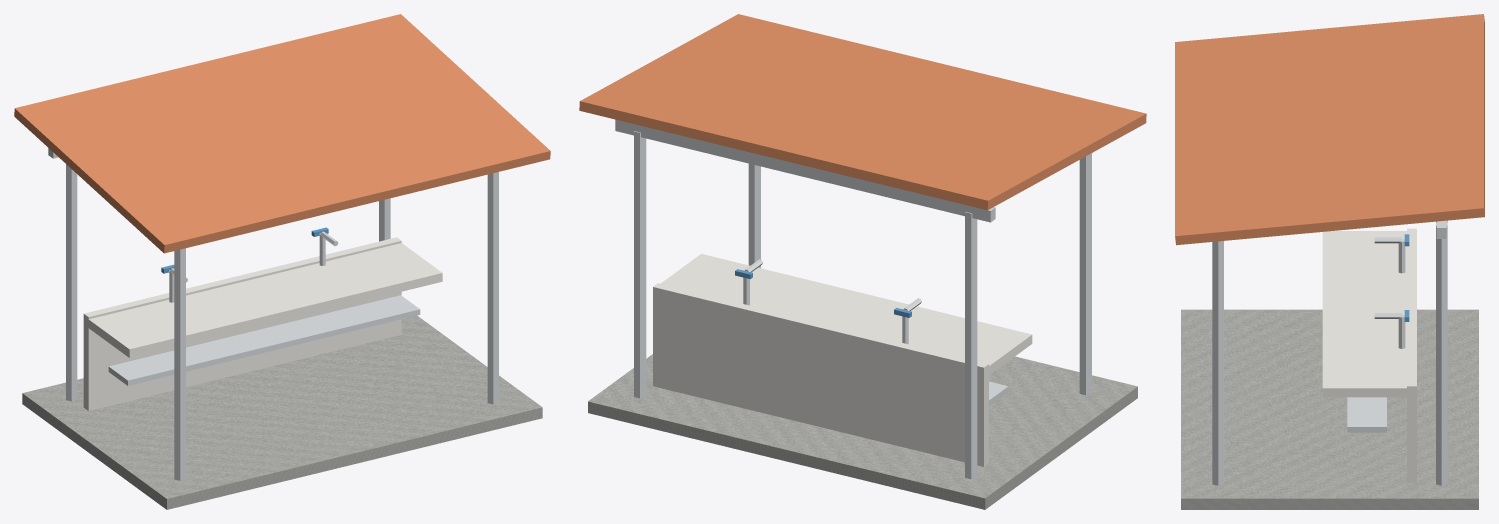
The model's file is caravan-park-and-campsite-washing-up-sinks-43a9c061__35372.glb.
3 renders of one model, left to right at view 1: azimuth 30°, elevation 25°; view 2: azimuth 150°, elevation 25°; view 3: azimuth 270°, elevation 25°, orthographic. The views are drawn at different scales.
Parts seen in each view (by area): view 1: washing-up-sinks-flame, washing-up-sinks-hard, washing-up-sinks-shell, washing-up-sinks-galv; view 2: washing-up-sinks-flame, washing-up-sinks-shell, washing-up-sinks-hard, washing-up-sinks-galv; view 3: washing-up-sinks-flame, washing-up-sinks-hard, washing-up-sinks-shell, washing-up-sinks-galv.
Boxes of the visible parts, x1,y1,x2,y2 form: washing-up-sinks-flame: (14,14,550,253); washing-up-sinks-hard: (22,315,542,509); washing-up-sinks-shell: (83,237,442,410); washing-up-sinks-galv: (48,148,498,480); washing-up-sinks-flame: (579,14,1146,210); washing-up-sinks-shell: (653,254,1032,466); washing-up-sinks-hard: (588,354,1137,509); washing-up-sinks-galv: (615,119,1091,479); washing-up-sinks-flame: (1175,14,1484,245); washing-up-sinks-hard: (1181,309,1478,509); washing-up-sinks-shell: (1322,228,1416,482); washing-up-sinks-galv: (1212,220,1447,485).
Bounding box in the file's own units: 3.7 × 2.7 × 2.5.
Materials: 5 (1 with a texture image).
